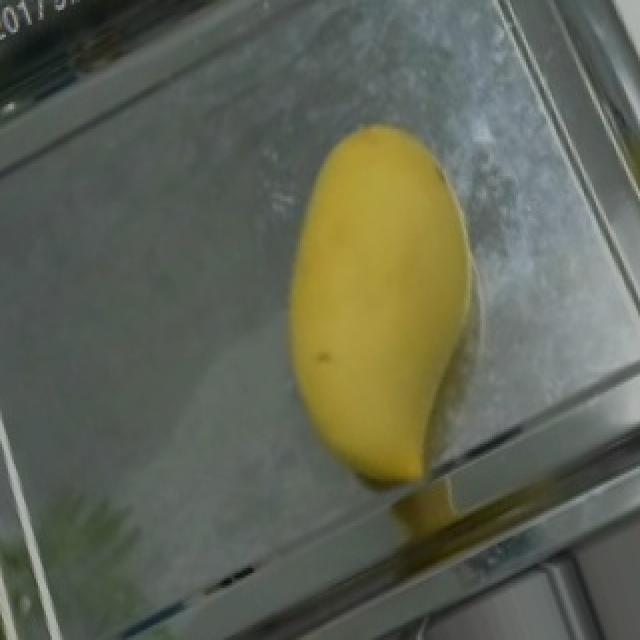fruit: (204, 74, 564, 518)
